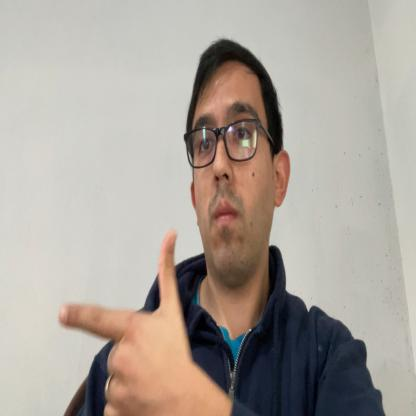G: (58, 227, 190, 416)
